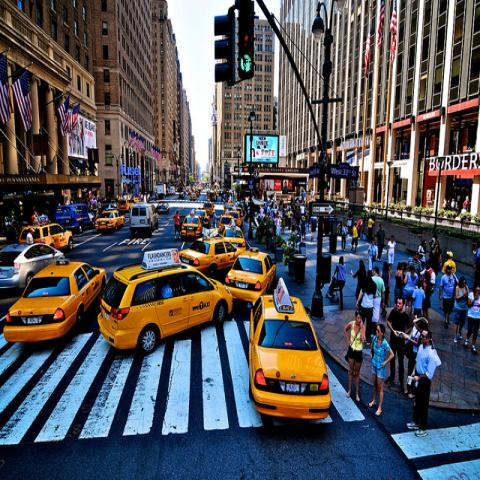car: (28, 183, 476, 436), (96, 246, 233, 357), (250, 277, 333, 419), (3, 258, 107, 343), (220, 245, 278, 307), (0, 242, 65, 292), (179, 236, 245, 276), (19, 223, 74, 249), (96, 208, 126, 232), (181, 216, 203, 237), (217, 214, 235, 233), (156, 201, 170, 214), (193, 210, 210, 219)
truck: (129, 203, 159, 235), (157, 181, 170, 199)
